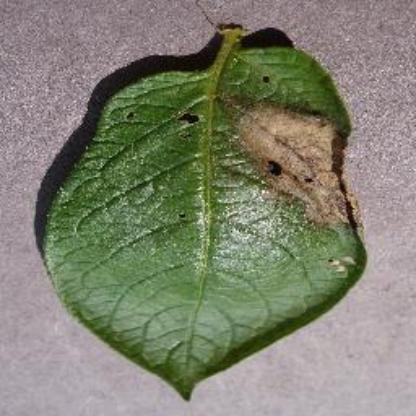Late-Blight: (40, 19, 372, 400)
